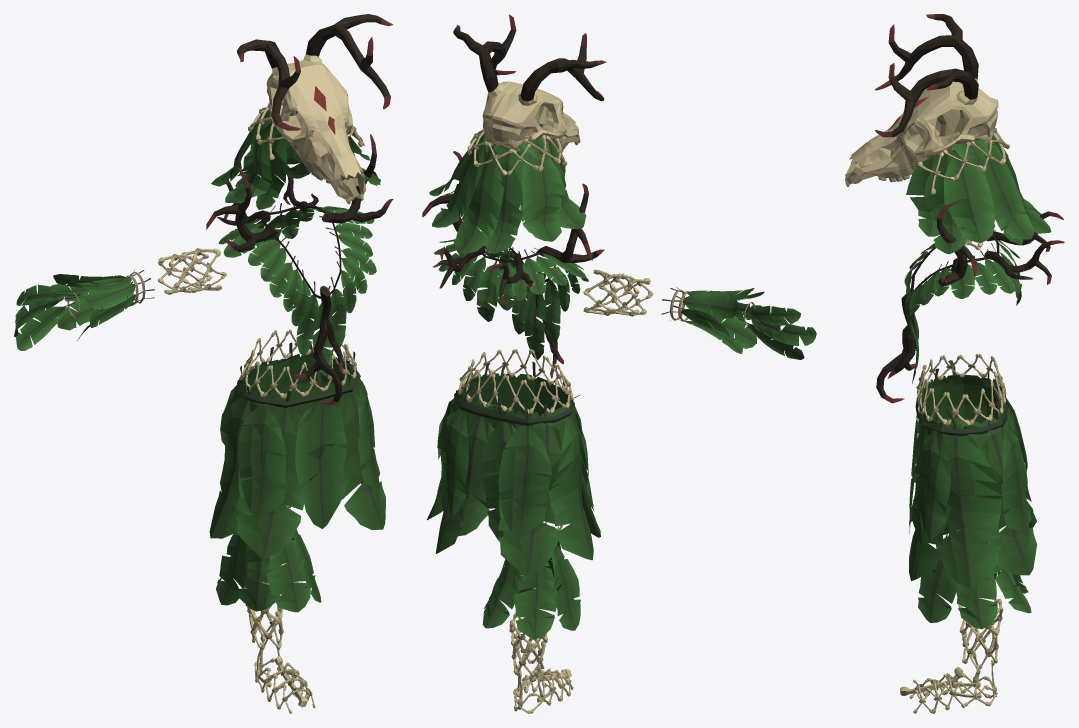
The model's file is skullTribeDeerWarriorFemale.glb.
3 renders of one model, left to right at view 1: azimuth 30°, elevation 25°; view 2: azimuth 150°, elevation 25°; view 3: azimuth 270°, elevation 25°, orthographic. The views are drawn at different scales.
Parts seen in each view (by area): view 1: skullTribeDeerWarriorTorso.001, skullTribeDeerWarriorHead, skullTribeDeerWarriorTorso, skullTribeDeerWarriorUpperLeg.002, skullTribeDeerWarriorLowerArm, skullTribeDeerWarriorHand, skullTribeDeerWarriorFeet, skullTribeDeerWarriorUpperArm, skullTribeDeerWarriorLowerLeg; view 2: skullTribeDeerWarriorTorso.001, skullTribeDeerWarriorHead, skullTribeDeerWarriorTorso, skullTribeDeerWarriorUpperLeg.002, skullTribeDeerWarriorLowerArm, skullTribeDeerWarriorHand, skullTribeDeerWarriorUpperArm, skullTribeDeerWarriorFeet, skullTribeDeerWarriorLowerLeg; view 3: skullTribeDeerWarriorTorso.001, skullTribeDeerWarriorHead, skullTribeDeerWarriorTorso, skullTribeDeerWarriorUpperLeg.002, skullTribeDeerWarriorFeet, skullTribeDeerWarriorLowerLeg.
Part boxes in pixels (x1,y1,x2,y2): skullTribeDeerWarriorTorso.001: (209, 329, 385, 558); skullTribeDeerWarriorHead: (211, 14, 393, 209); skullTribeDeerWarriorTorso: (206, 134, 393, 405); skullTribeDeerWarriorUpperLeg.002: (216, 505, 321, 612); skullTribeDeerWarriorLowerArm: (50, 269, 154, 340); skullTribeDeerWarriorHand: (14, 284, 80, 350); skullTribeDeerWarriorFeet: (254, 636, 315, 713); skullTribeDeerWarriorUpperArm: (158, 248, 226, 294); skullTribeDeerWarriorLowerLeg: (243, 581, 283, 649); skullTribeDeerWarriorTorso.001: (427, 349, 600, 576); skullTribeDeerWarriorHead: (429, 14, 606, 253); skullTribeDeerWarriorTorso: (422, 151, 604, 378); skullTribeDeerWarriorUpperLeg.002: (482, 522, 580, 639); skullTribeDeerWarriorLowerArm: (661, 287, 764, 353); skullTribeDeerWarriorHand: (736, 302, 816, 359); skullTribeDeerWarriorUpperArm: (583, 269, 653, 316); skullTribeDeerWarriorFeet: (513, 665, 573, 713); skullTribeDeerWarriorLowerLeg: (509, 609, 547, 675); skullTribeDeerWarriorTorso.001: (909, 353, 1037, 588); skullTribeDeerWarriorHead: (845, 14, 1051, 254); skullTribeDeerWarriorTorso: (876, 203, 1064, 403); skullTribeDeerWarriorUpperLeg.002: (918, 529, 1031, 629); skullTribeDeerWarriorFeet: (900, 651, 997, 713); skullTribeDeerWarriorLowerLeg: (958, 598, 1003, 669).
Bounding box in the file's own units: 1.31 × 2.19 × 0.6481.
